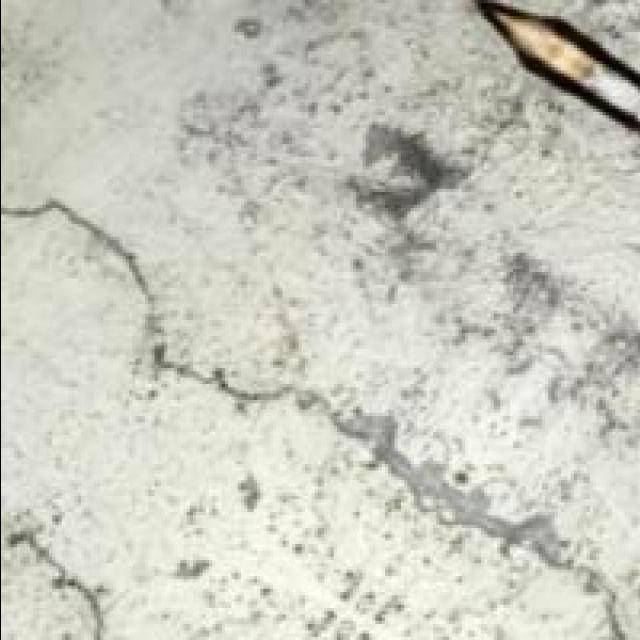SurfaceCrack: (6, 176, 380, 438), (8, 516, 130, 640)
